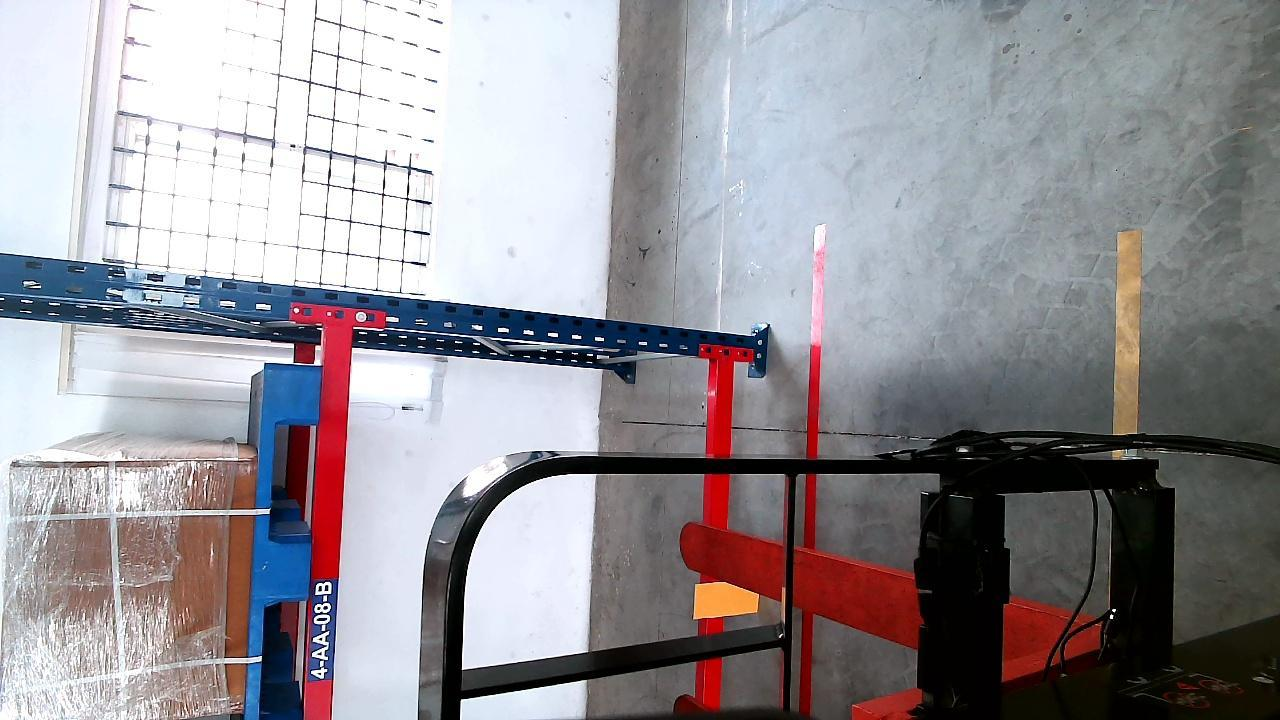red_line: (800, 228, 828, 712)
yellow_line: (1114, 223, 1138, 436)
